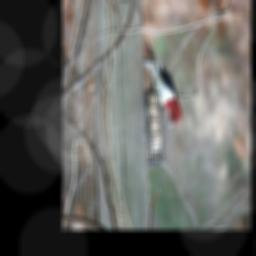Woodpecker: (139, 37, 185, 135)
